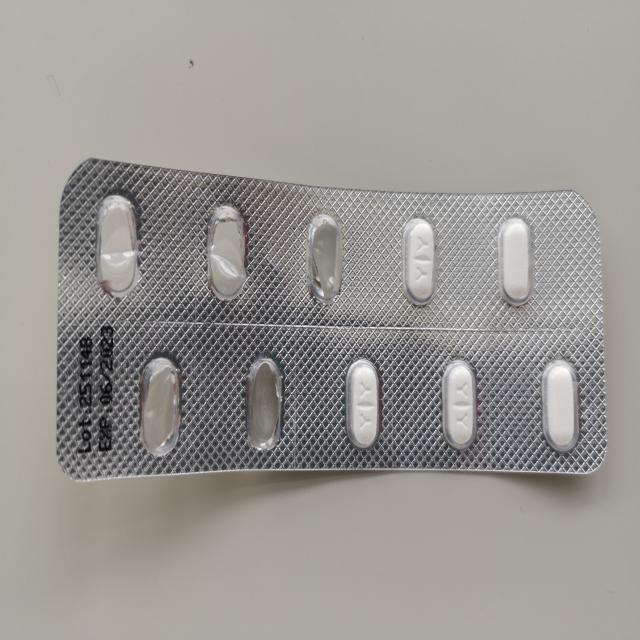Empty: (91, 185, 145, 302), (134, 349, 186, 463), (240, 348, 291, 456), (203, 195, 251, 305), (304, 208, 346, 307)
Pill: (536, 357, 584, 460), (342, 353, 386, 454), (439, 352, 479, 456), (398, 214, 440, 310), (494, 212, 535, 309)
